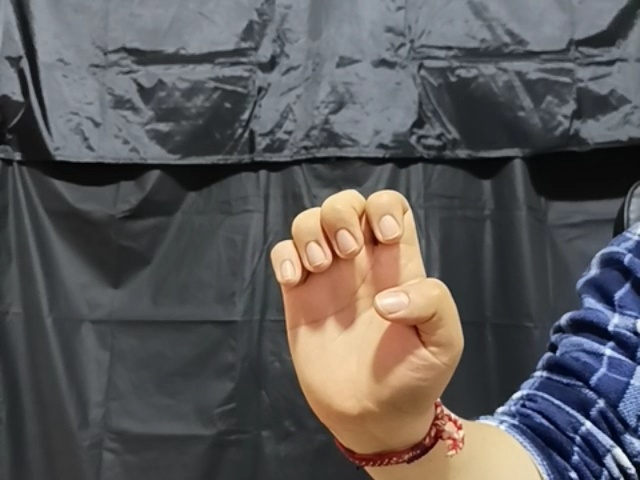E: (264, 183, 467, 430)
